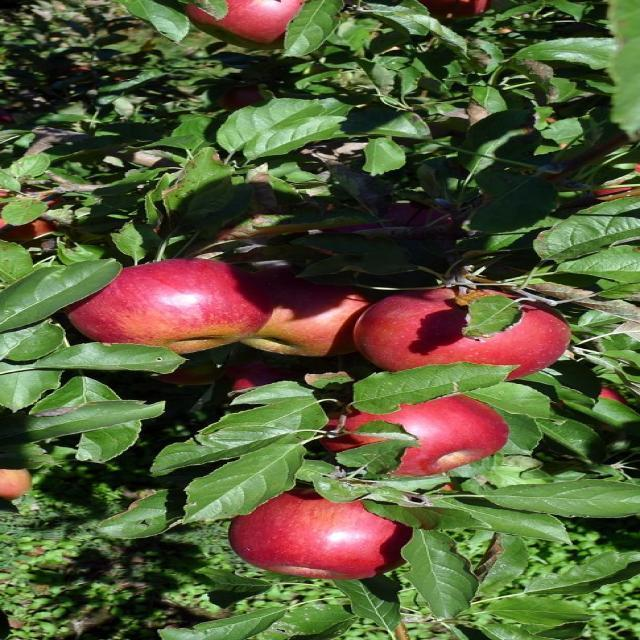Apple: (54, 258, 275, 356), (353, 288, 562, 379), (226, 486, 422, 580), (309, 391, 507, 476), (248, 277, 361, 357), (172, 0, 304, 51), (413, 0, 494, 19), (0, 468, 32, 500)
